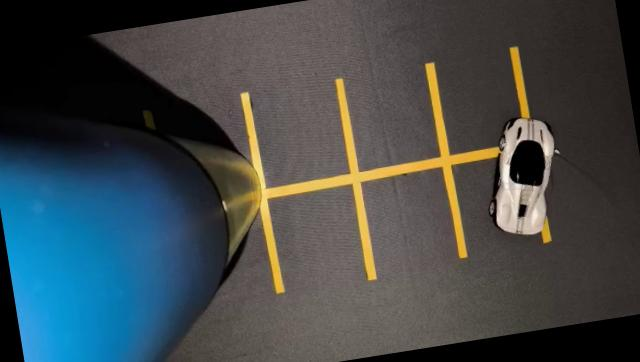toy_car: (442, 93, 588, 273)
